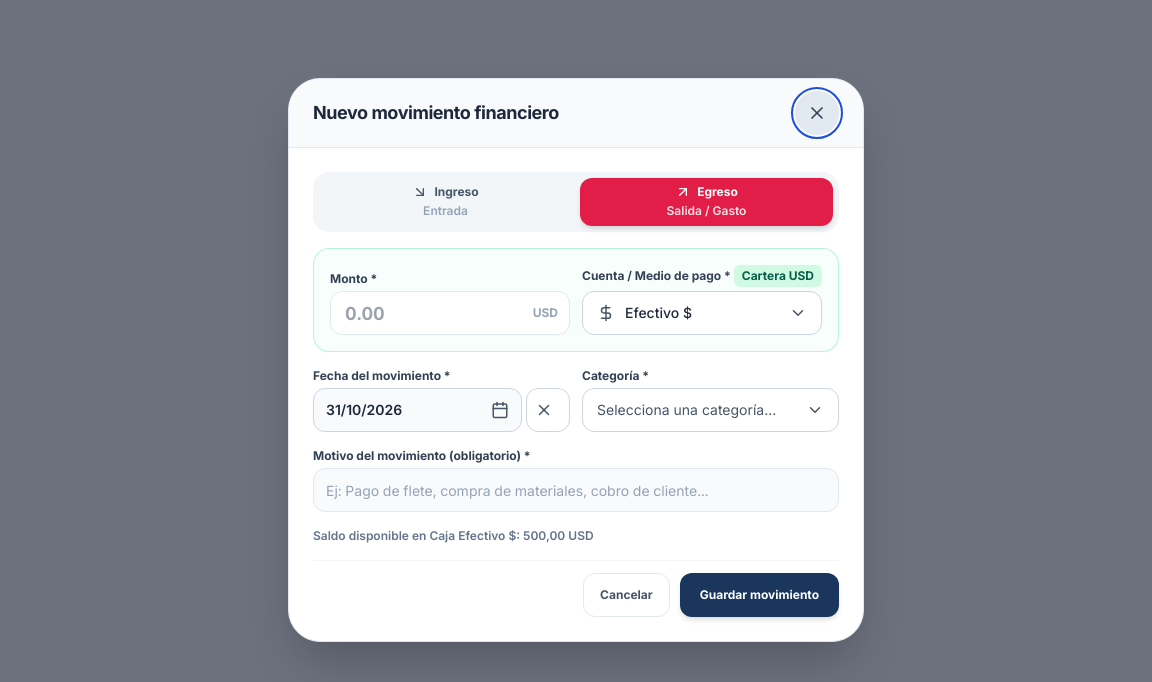
Test: MovimientoForm › permite crear y seleccionar una categoría personalizada
Note: Abrir el selector de categoría y elegir la opción de crear nueva.
Click the dropdown "Selecciona una categoría..." at (710, 410), box [582,388,839,432]
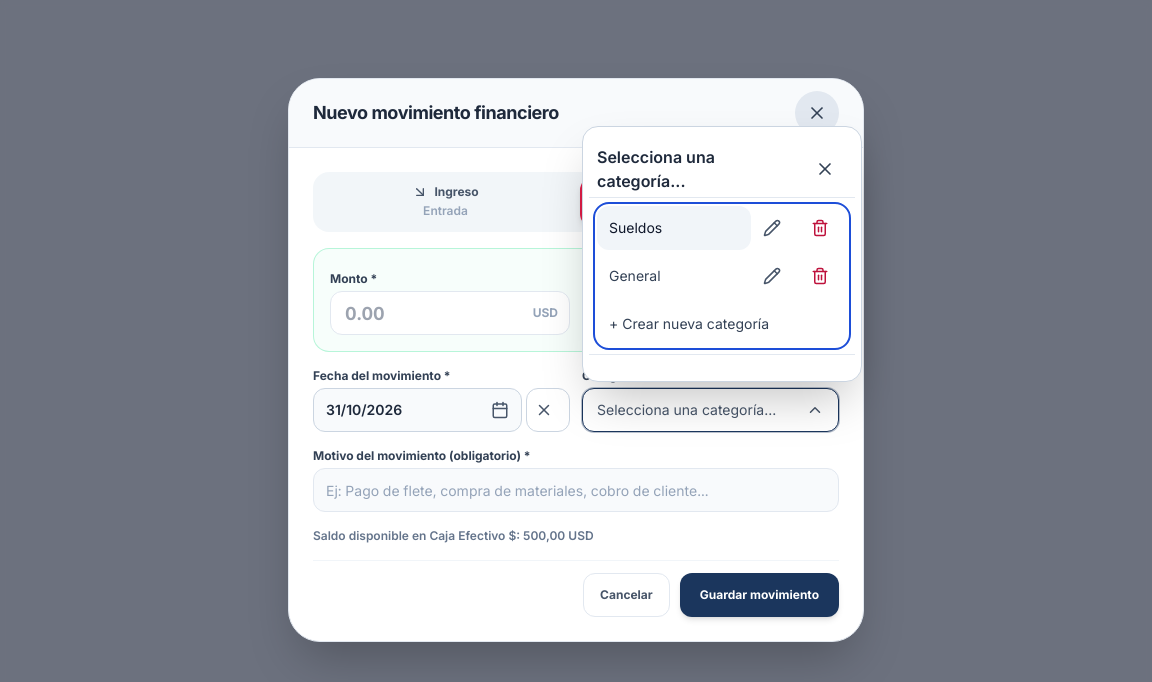
Click the option "+ Crear nueva categoría" at (722, 324), box [597,302,847,346]
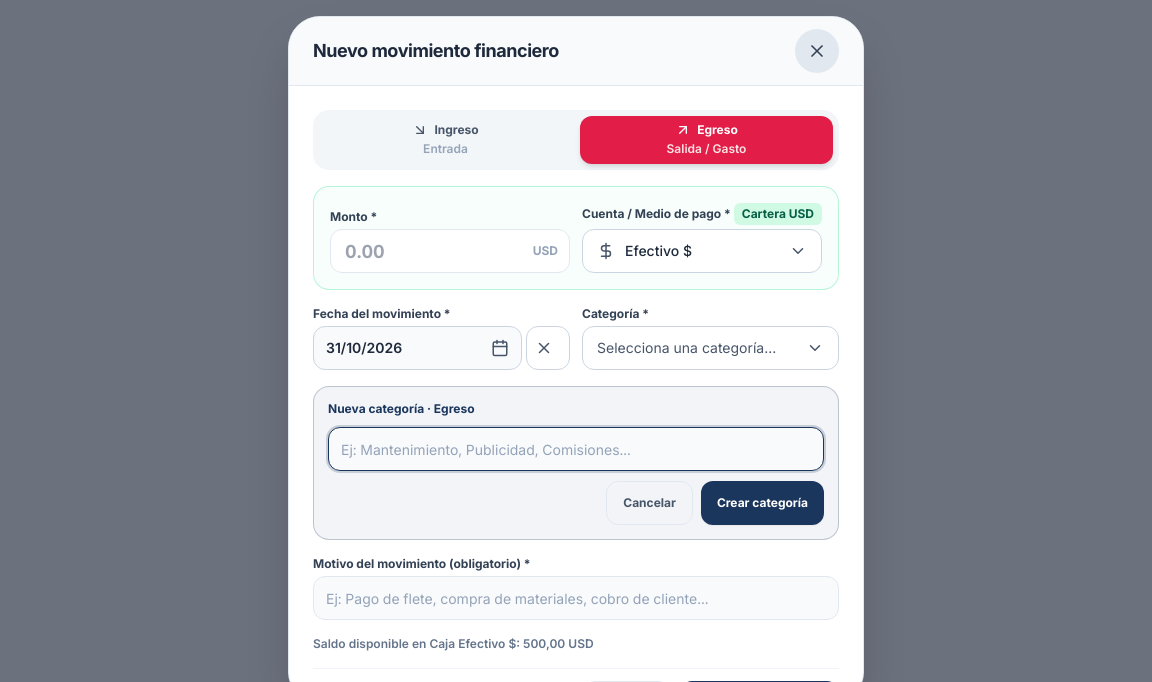
Type "Mantenimiento" into the field named "nombre de la nueva categor" at (576, 449), box [328,427,824,471]
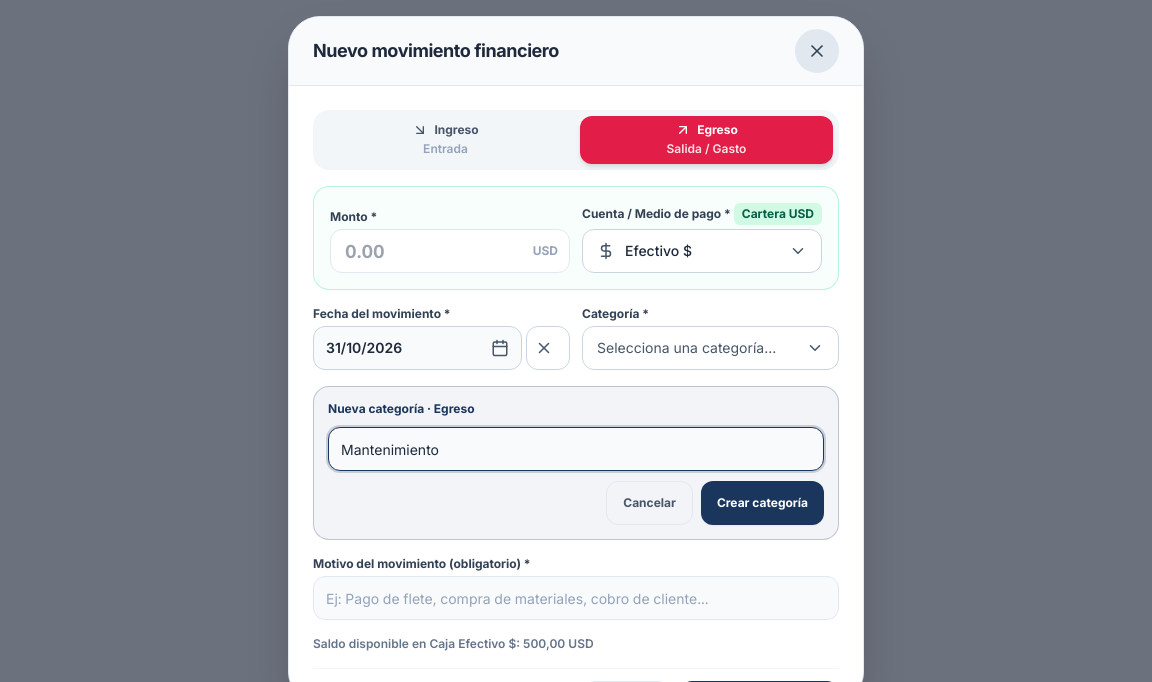
Click the button "Crear categoría" at (762, 503), box [701,481,824,525]
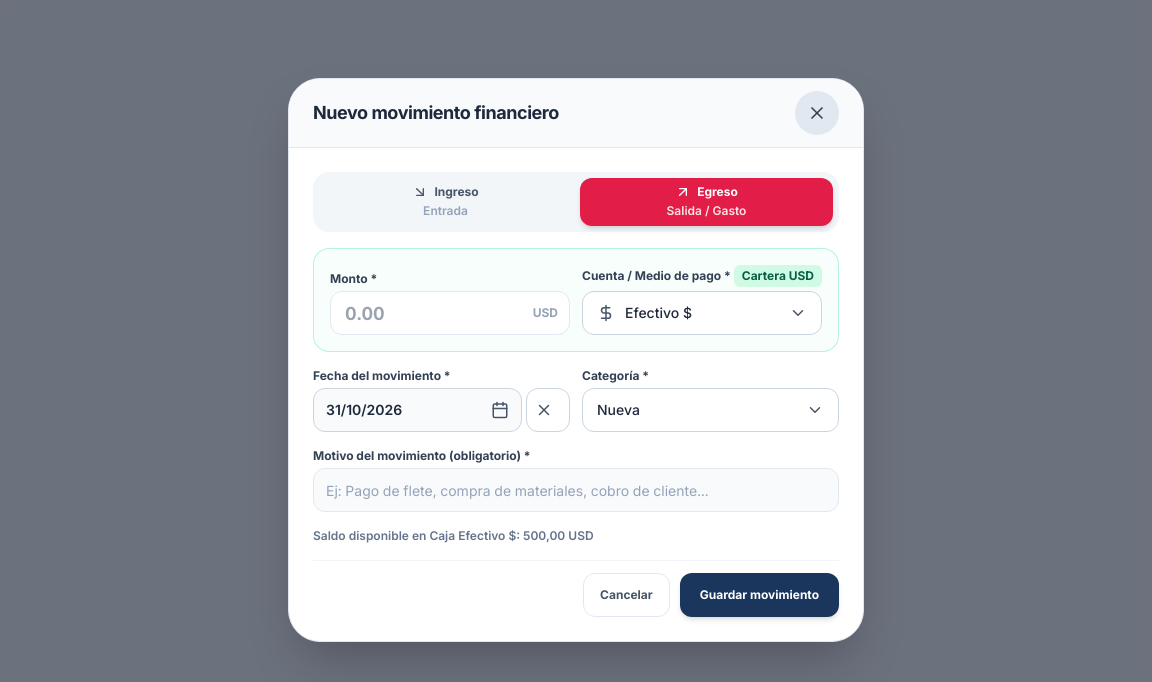
Expected: the text "Nueva" is shown, [597,401,640,418]
